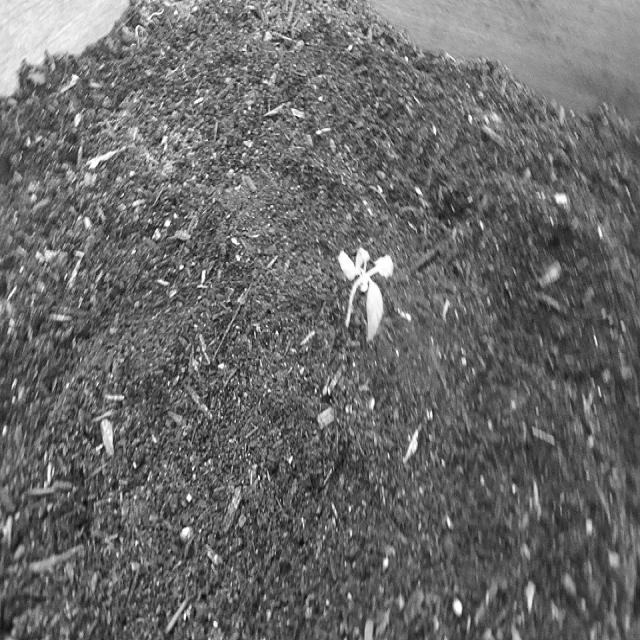Healthy: (338, 242, 396, 345)
